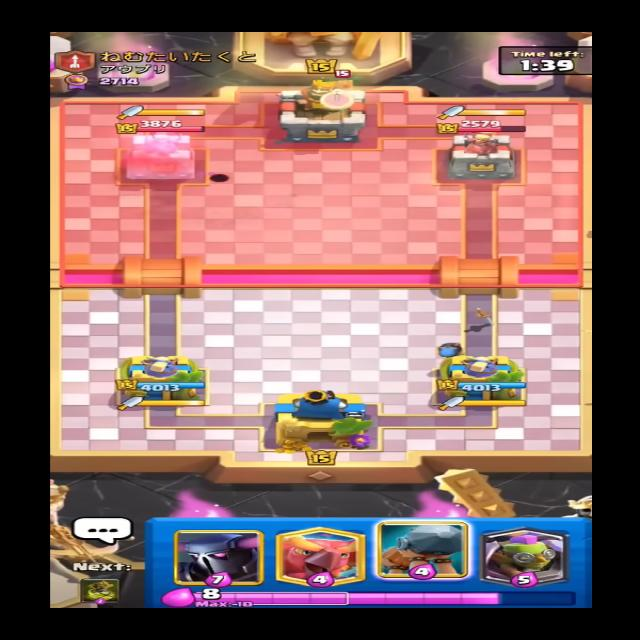dart-goblin: (325, 68, 368, 96)
